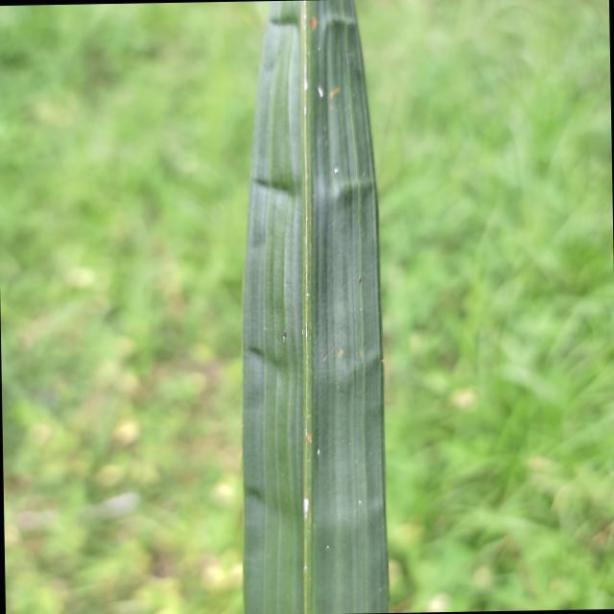Boron: (243, 0, 390, 614)
